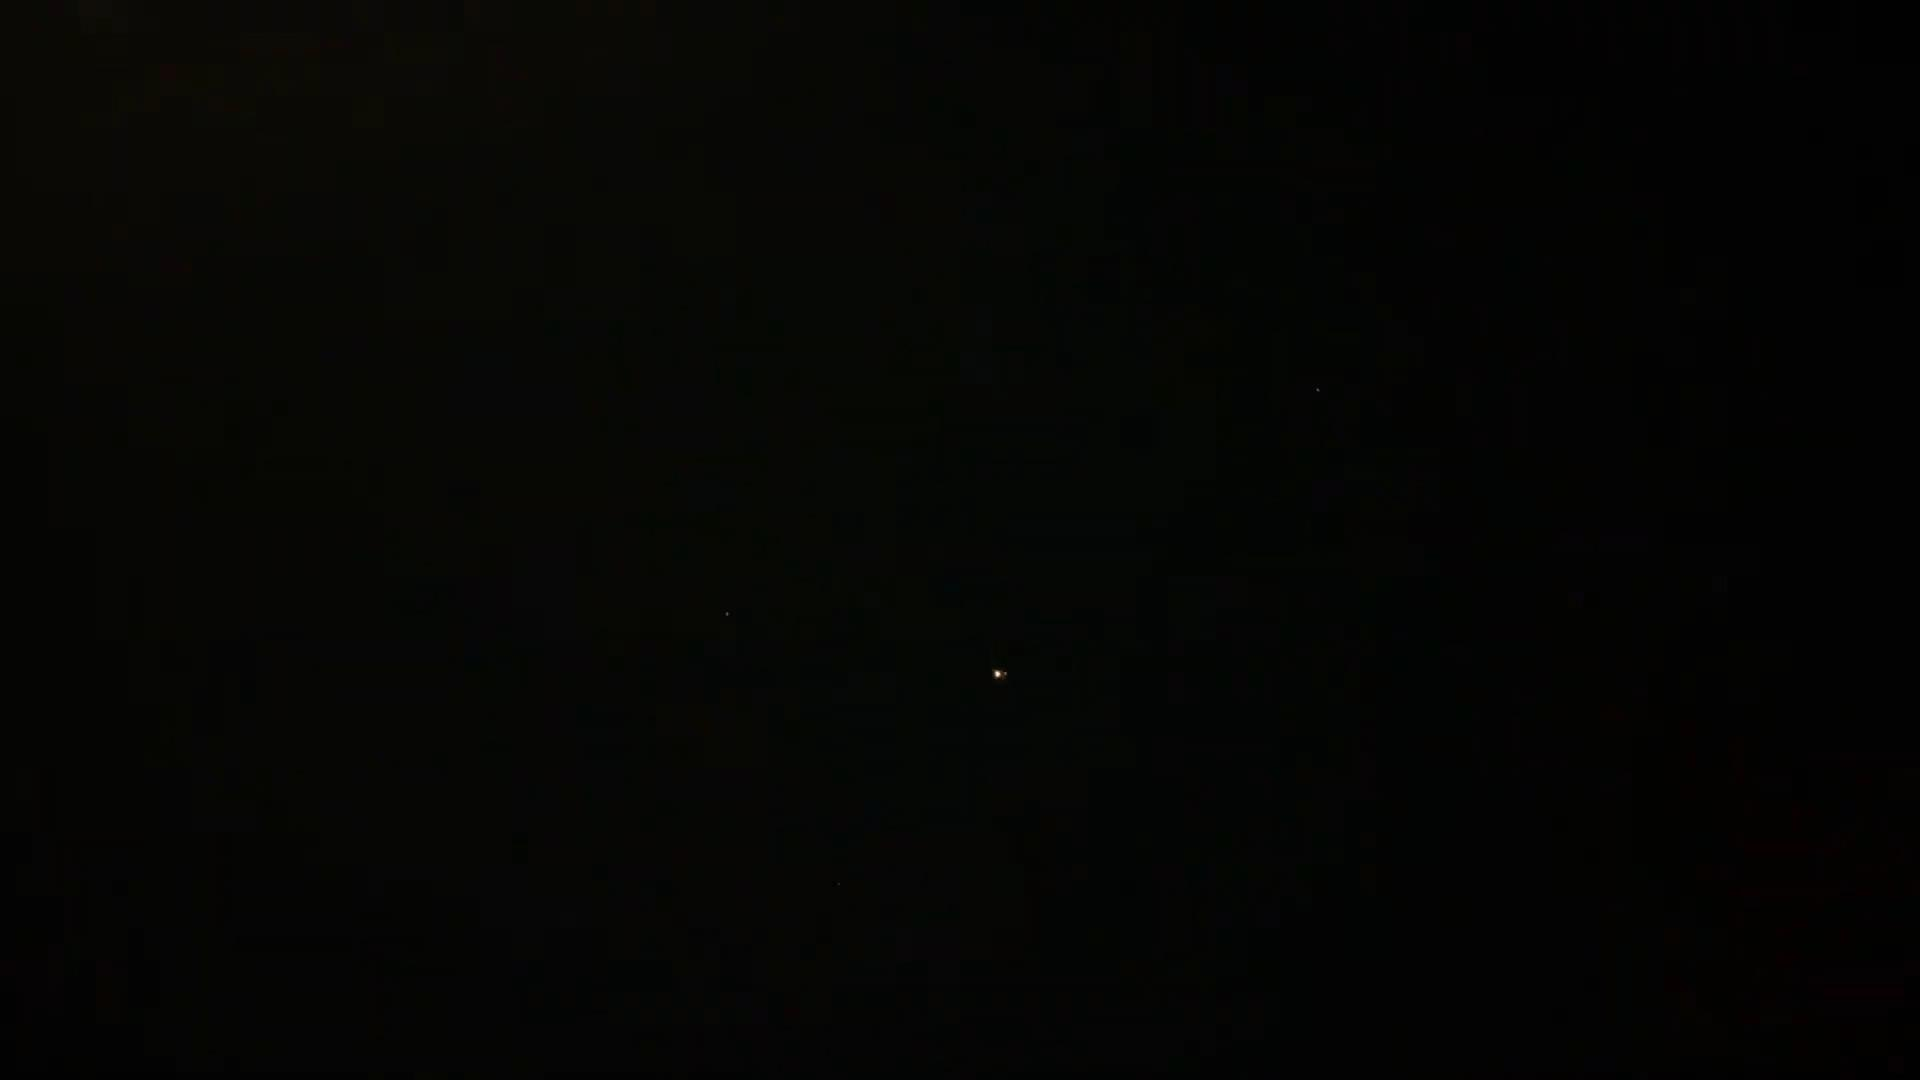Plane: (988, 653, 1025, 695)
